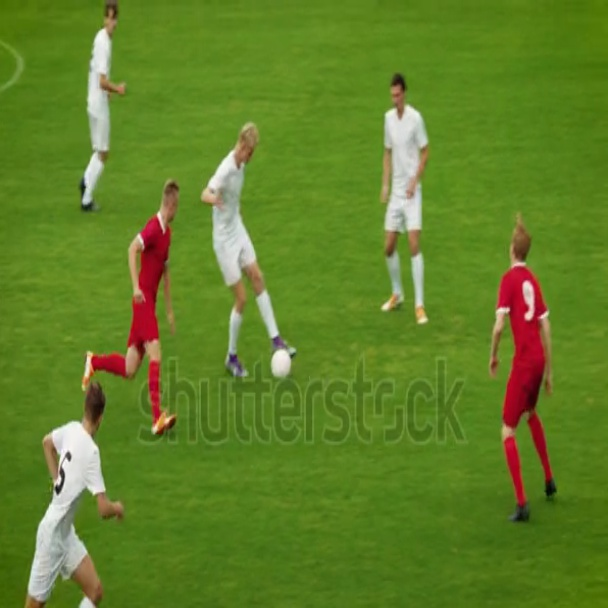ball: (267, 342, 297, 388)
